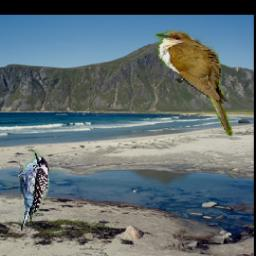Cuckoo: (154, 30, 233, 136)
Woodpecker: (11, 148, 54, 236)
